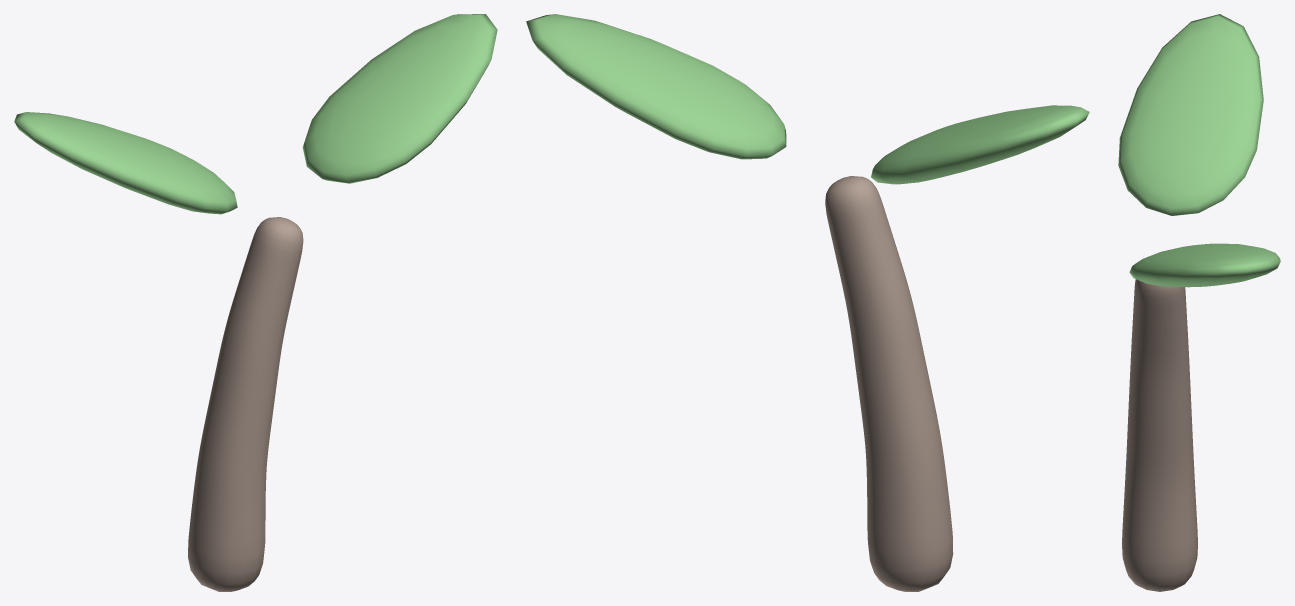
Rendered from tree_seed_0.glb.
The picture shows the model from 3 angles, left to right: view 1: azimuth 30°, elevation 25°; view 2: azimuth 150°, elevation 25°; view 3: azimuth 270°, elevation 25°; orthographic projection. The views are drawn at different scales.
Visible parts, largest first — view 1: trunk, leaf_0, leaf_1; view 2: trunk, leaf_0, leaf_1; view 3: leaf_1, trunk, leaf_0.
Boxes of the visible parts, x1,y1,x2,y2 form: trunk: [188, 217, 303, 591]; leaf_0: [302, 14, 497, 183]; leaf_1: [14, 112, 237, 214]; trunk: [825, 176, 953, 591]; leaf_0: [526, 14, 786, 159]; leaf_1: [871, 105, 1089, 184]; leaf_1: [1118, 14, 1263, 215]; trunk: [1122, 279, 1197, 591]; leaf_0: [1129, 243, 1280, 287].
Bounding box in the file's own units: 0.4478 × 0.4326 × 0.1305.
